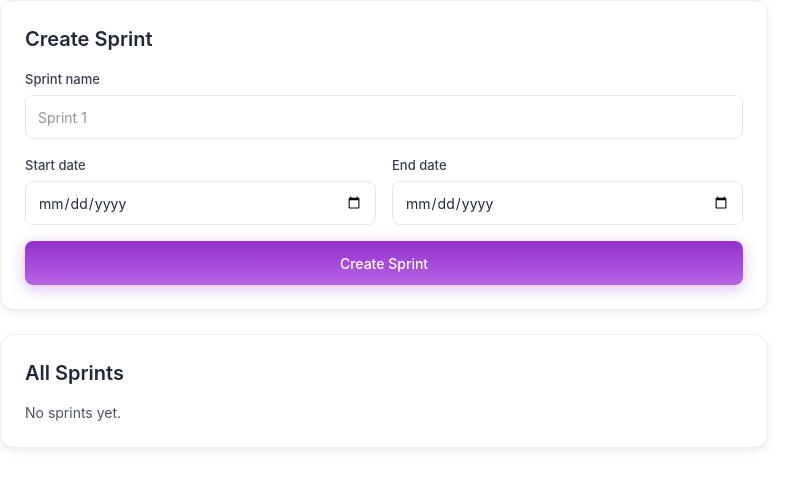
Test: SprintManagementTab › validates that a sprint name is required
This screenshot has width=785, height=503.
Click the button "Create Sprint" at (384, 263), box [25,241,743,285]
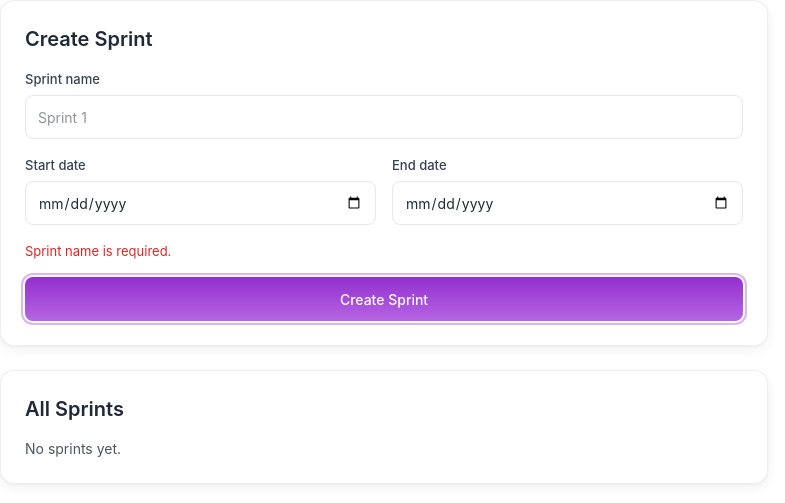
Check: the text "Sprint name is required." is shown, box [25,243,171,259]
